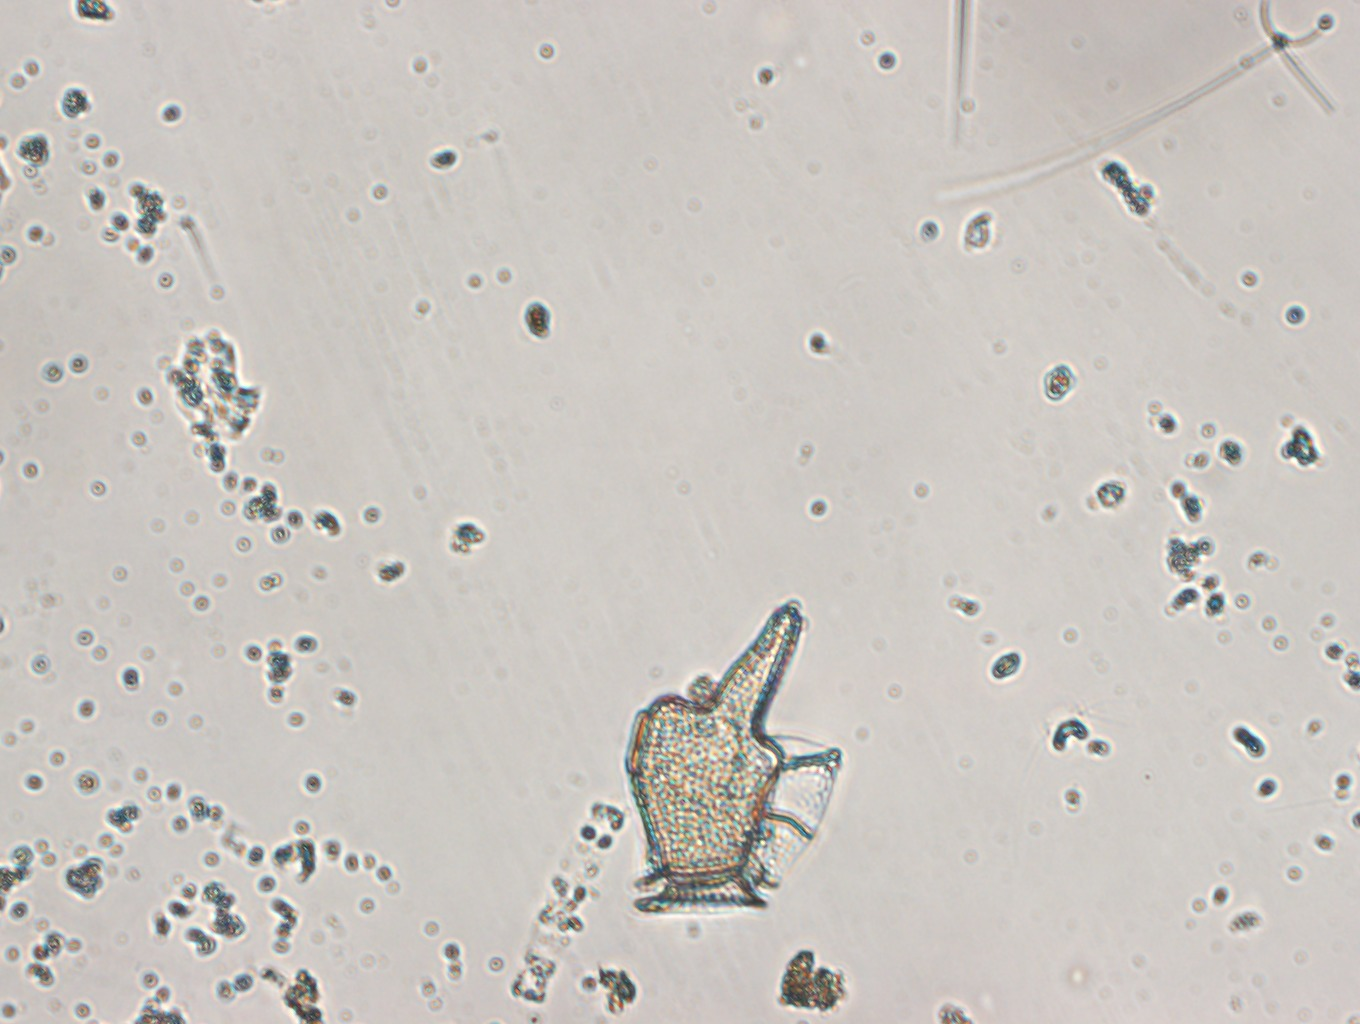dinophysis caudata: (615, 589, 853, 909)
